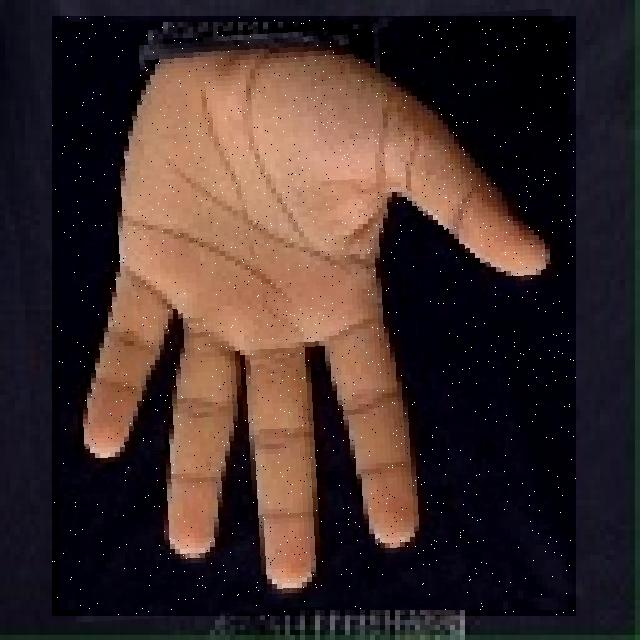Yes: (52, 16, 576, 616)
